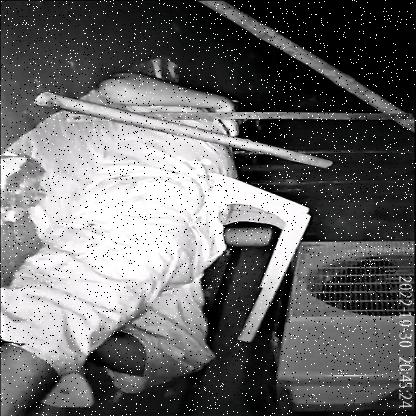hand: (76, 65, 262, 140)
